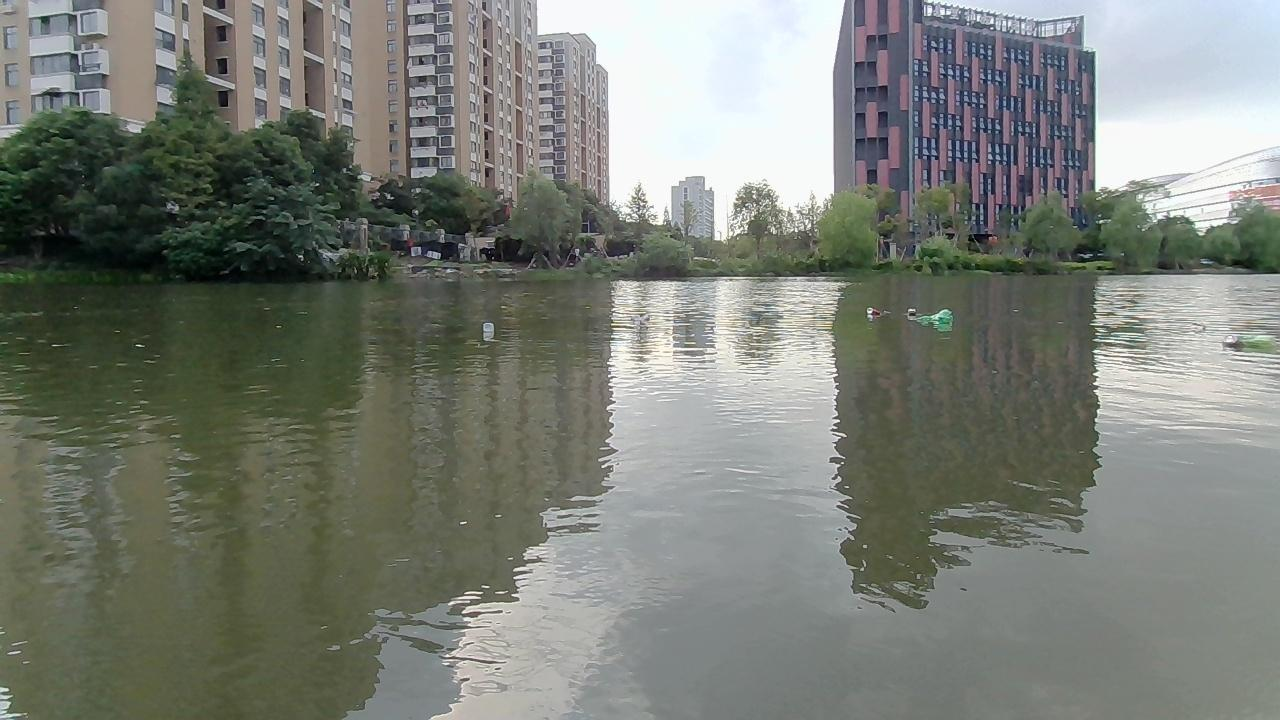bottle: (1218, 328, 1279, 352), (922, 307, 950, 327), (865, 305, 879, 321), (480, 321, 494, 335), (902, 304, 914, 313)
